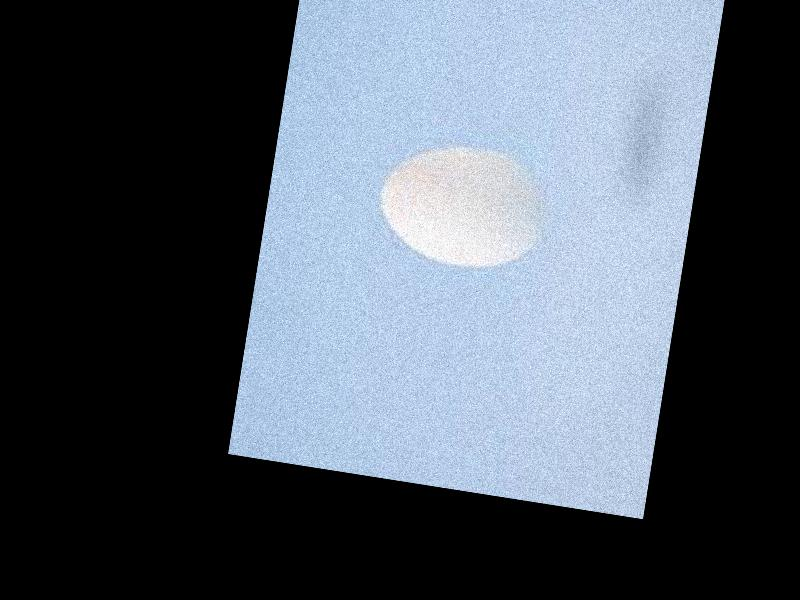Eggs: (371, 133, 555, 278)
